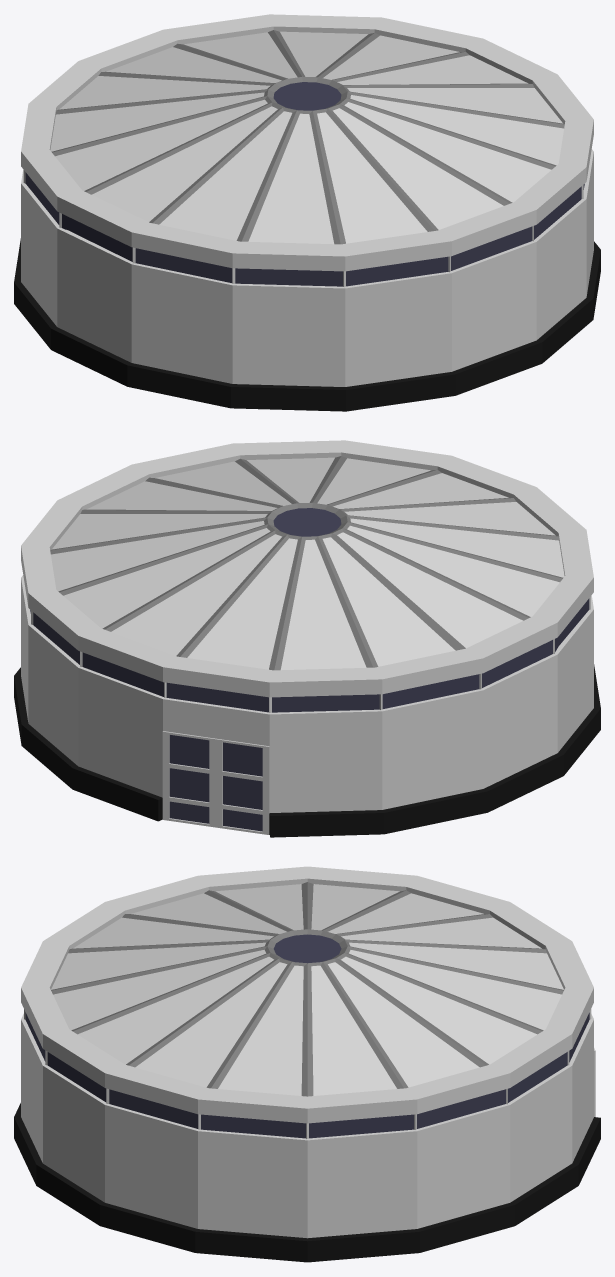
The model's file is Conference_Building.fbx.
The picture shows the model from 3 angles, top to bottom: view 1: azimuth 30°, elevation 25°; view 2: azimuth 150°, elevation 25°; view 3: azimuth 270°, elevation 25°; orthographic projection.
Parts seen in each view (by area): view 1: Cone.002; view 2: Cone.002; view 3: Cone.002.
Boxes of the visible parts, box(x1,y1,x2,y2) form: Cone.002: box(14, 14, 600, 411); Cone.002: box(14, 440, 600, 837); Cone.002: box(14, 866, 600, 1262).
Size of the model in its own units: 500 by 181 by 500.
